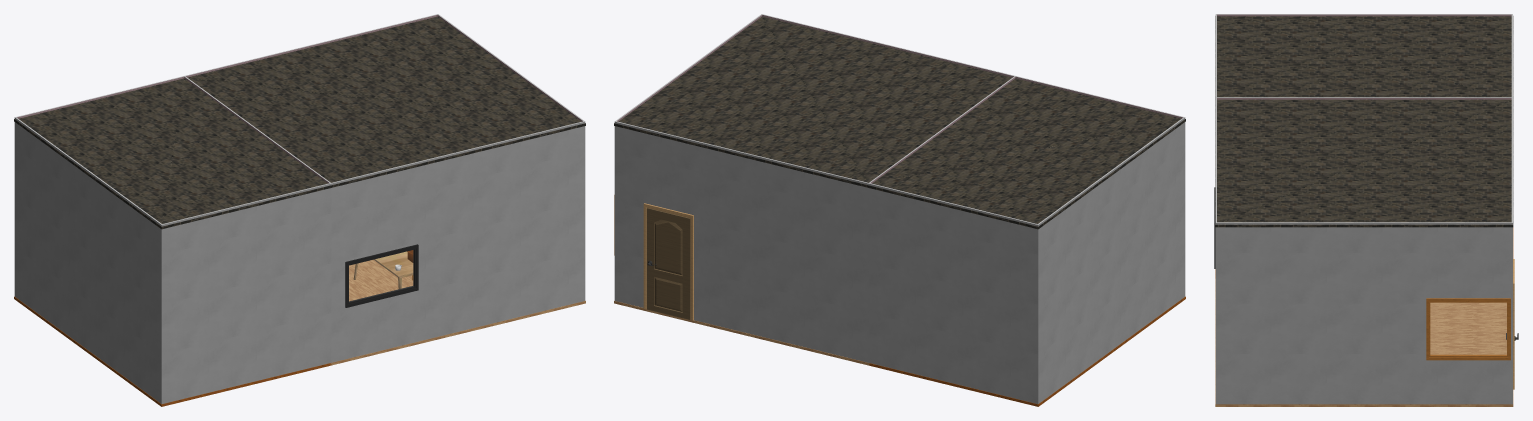
Rendered from ProcTHOR-Train-36.glb.
3 renders of one model, left to right at view 1: azimuth 30°, elevation 25°; view 2: azimuth 150°, elevation 25°; view 3: azimuth 270°, elevation 25°, orthographic.
Parts seen in each view (by area): view 1: WallInside#wall|exterior|0.00|5.33|5.33|5.33, Ceiling#room|2|c, WallInside#wall|exterior|5.33|5.33|8.88|5.33, WallInside#wall|exterior|8.88|0.00|8.88|5.33, Ceiling#room|3|c, Floor#room|2|f, Window_Fixed_60x36, Floor#room|3|f, Dining_Table_218_1, WallInside#wall|2|0.00|0.00|5.33|0.00; view 2: WallInside#wall|exterior|0.00|0.00|5.33|0.00, Ceiling#room|2|c, WallInside#wall|exterior|5.33|0.00|8.88|0.00, WallInside#wall|exterior|8.88|0.00|8.88|5.33, Ceiling#room|3|c, Doorway_6, Floor#room|3|f, Floor#room|2|f, WallInside#wall|2|0.00|5.33|5.33|5.33; view 3: WallInside#wall|exterior|0.00|0.00|0.00|5.33, Ceiling#room|2|c, Ceiling#room|3|c, Floor#room|2|f, Window_Fixed_60x48, WallInside#wall|2|5.33|0.00|5.33|5.33, WallInside#wall|3|8.88|0.00|8.88|5.33, WallInside#wall|exterior|0.00|5.33|5.33|5.33, WallInside#wall|2|0.00|0.00|0.00|5.33, WallInside#wall|exterior|8.88|0.00|8.88|5.33, WallInside#wall|3|5.33|0.00|5.33|5.33, Doorway_6.
Part boxes in pixels (<box>): WallInside#wall|exterior|0.00|5.33|5.33|5.33: <box>331,121,585,362</box>; Ceiling#room|2|c: <box>187,16,585,187</box>; WallInside#wall|exterior|5.33|5.33|8.88|5.33: <box>161,183,331,403</box>; WallInside#wall|exterior|8.88|0.00|8.88|5.33: <box>14,117,161,403</box>; Ceiling#room|3|c: <box>14,78,330,229</box>; Floor#room|2|f: <box>330,259,585,365</box>; Window_Fixed_60x36: <box>345,244,418,307</box>; Floor#room|3|f: <box>14,296,331,406</box>; Dining_Table_218_1: <box>353,251,413,288</box>; WallInside#wall|2|0.00|0.00|5.33|0.00: <box>185,14,438,77</box>; WallInside#wall|exterior|0.00|0.00|5.33|0.00: <box>614,121,869,362</box>; Ceiling#room|2|c: <box>614,16,1012,187</box>; WallInside#wall|exterior|5.33|0.00|8.88|0.00: <box>868,183,1038,403</box>; WallInside#wall|exterior|8.88|0.00|8.88|5.33: <box>1038,117,1185,403</box>; Ceiling#room|3|c: <box>869,78,1185,229</box>; Doorway_6: <box>643,203,693,320</box>; Floor#room|3|f: <box>869,296,1185,406</box>; Floor#room|2|f: <box>614,301,869,365</box>; WallInside#wall|2|0.00|5.33|5.33|5.33: <box>761,14,1014,77</box>; WallInside#wall|exterior|0.00|0.00|0.00|5.33: <box>1216,222,1512,404</box>; Ceiling#room|2|c: <box>1215,99,1513,227</box>; Ceiling#room|3|c: <box>1215,16,1513,99</box>; Floor#room|2|f: <box>1215,279,1513,406</box>; Window_Fixed_60x48: <box>1426,298,1510,360</box>; WallInside#wall|2|5.33|0.00|5.33|5.33: <box>1217,97,1511,99</box>; WallInside#wall|3|8.88|0.00|8.88|5.33: <box>1217,14,1511,16</box>; WallInside#wall|exterior|0.00|5.33|5.33|5.33: <box>1215,97,1216,403</box>; WallInside#wall|2|0.00|0.00|0.00|5.33: <box>1217,222,1512,222</box>; WallInside#wall|exterior|8.88|0.00|8.88|5.33: <box>1216,14,1511,14</box>; WallInside#wall|3|5.33|0.00|5.33|5.33: <box>1217,97,1511,97</box>; Doorway_6: <box>1506,259,1518,389</box>.
Size of what is drawn, in the model's own units: 8.94 by 3.65 by 5.48.
123 materials, 59 textured.
